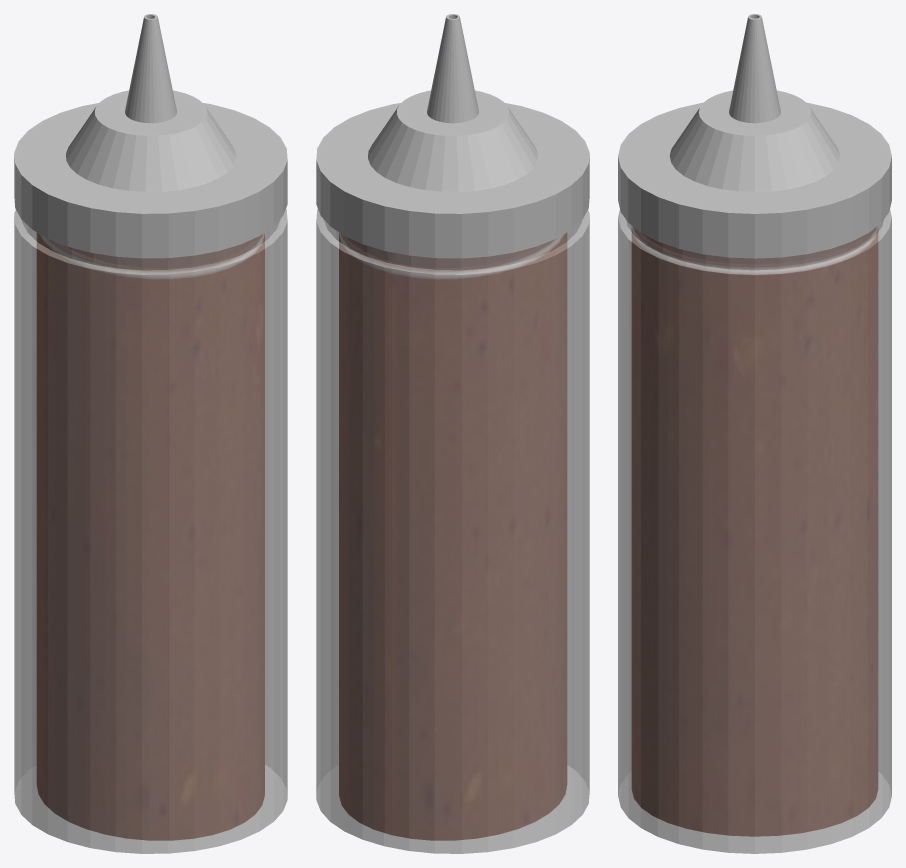
File: sausfles_bbq.glb
3 renders of one model, left to right at view 1: azimuth 30°, elevation 25°; view 2: azimuth 150°, elevation 25°; view 3: azimuth 270°, elevation 25°, orthographic.
Visible parts, largest first — view 1: Cylinder, Cylinder.002; view 2: Cylinder, Cylinder.002; view 3: Cylinder, Cylinder.002.
Boxes of the visible parts, left/top/right/bottom form: Cylinder: left=14, top=14, right=287, bottom=853; Cylinder.002: left=37, top=233, right=264, bottom=840; Cylinder: left=316, top=14, right=589, bottom=853; Cylinder.002: left=339, top=233, right=566, bottom=840; Cylinder: left=618, top=14, right=891, bottom=853; Cylinder.002: left=632, top=226, right=877, bottom=836.
Size of the model in its own units: 0.5817 by 1.83 by 0.5817.
Materials: 3 (3 with a texture image).
